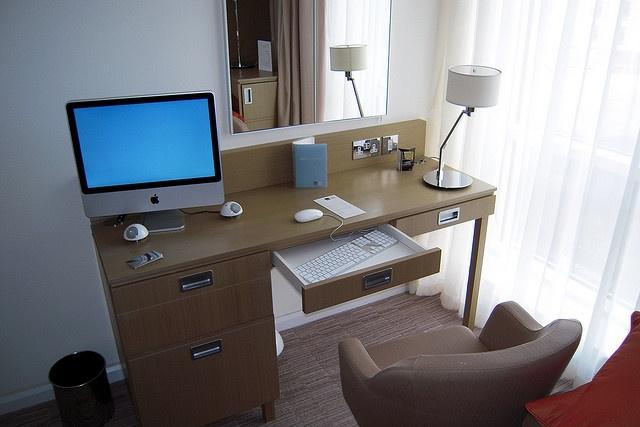AIO PC-Monitor-TV: (64, 89, 226, 235)
Meja: (86, 154, 498, 294)
